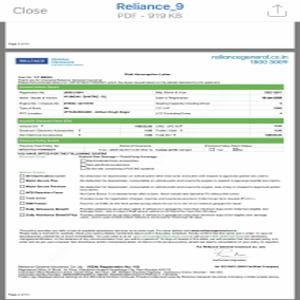image: (15, 57, 49, 66)
table: (19, 83, 286, 118), (17, 117, 283, 138)
text: (17, 144, 282, 218), (18, 265, 282, 281), (16, 228, 279, 243), (209, 54, 290, 65)
